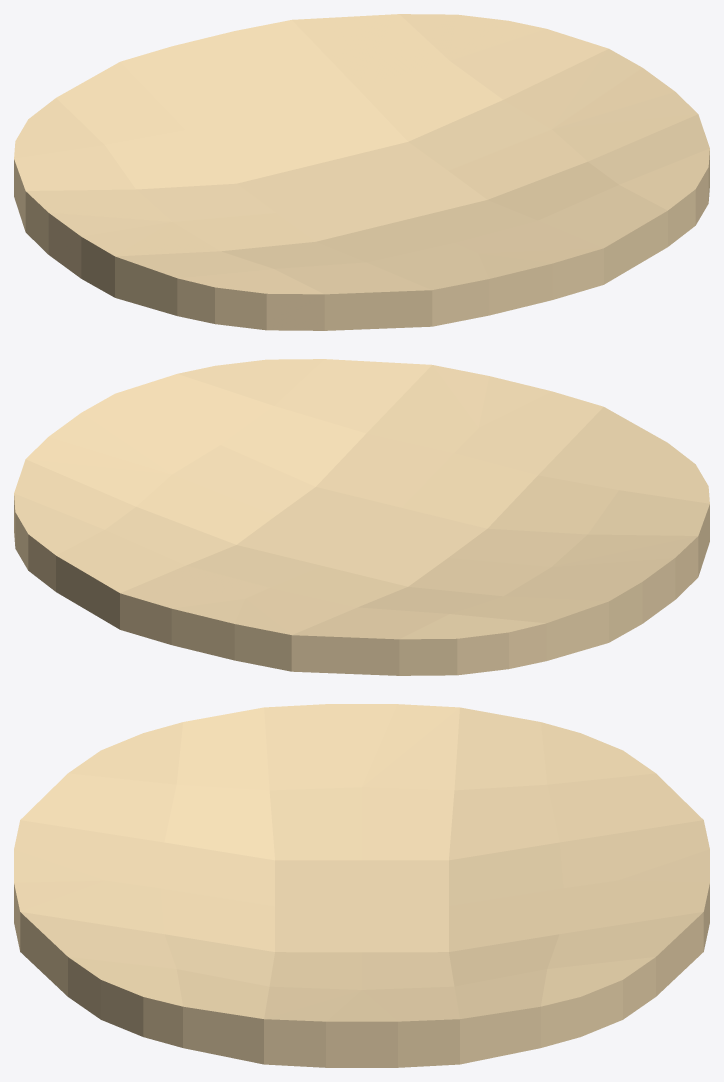
Rendered from Dish.fbx.
3 renders of one model, top to bottom at view 1: azimuth 30°, elevation 25°; view 2: azimuth 150°, elevation 25°; view 3: azimuth 270°, elevation 25°, orthographic. The views are drawn at different scales.
Visible parts, largest first — view 1: Plane.031; view 2: Plane.031; view 3: Plane.031.
Part boxes in pixels (left/top/right/bottom): Plane.031: left=14, top=14, right=709, bottom=330; Plane.031: left=14, top=359, right=709, bottom=675; Plane.031: left=14, top=704, right=709, bottom=1067.
Bounding box in the file's own units: 0.1993 × 0.0245 × 0.1846.
